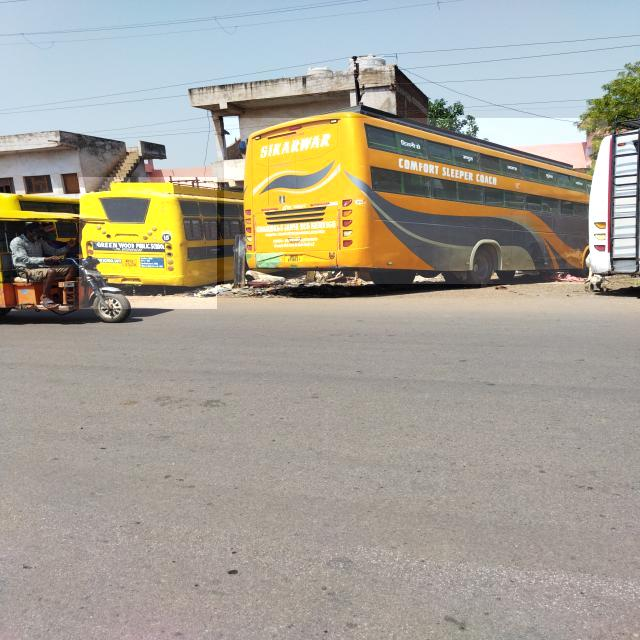Bus: (224, 118, 608, 284), (79, 177, 217, 309)
